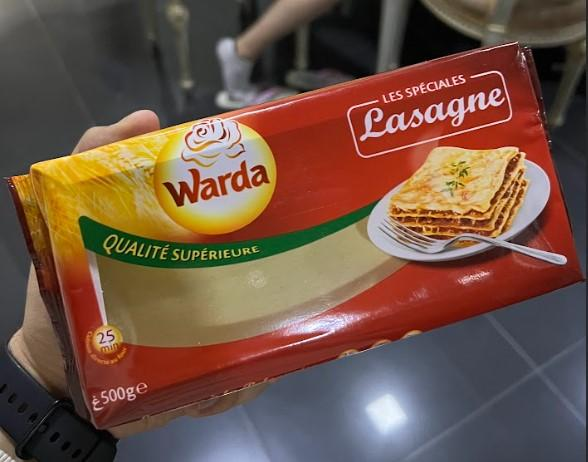lasagne: (6, 31, 588, 439)
